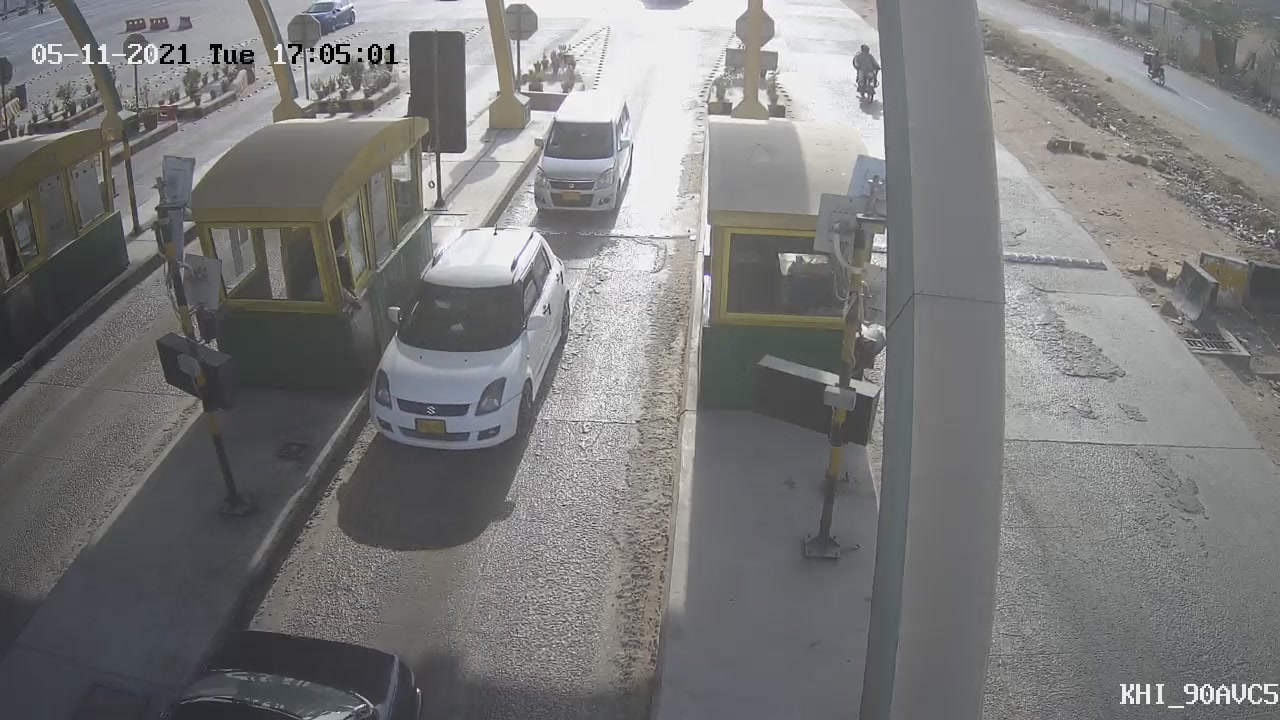F1: (343, 210, 597, 469), (516, 79, 647, 229)
